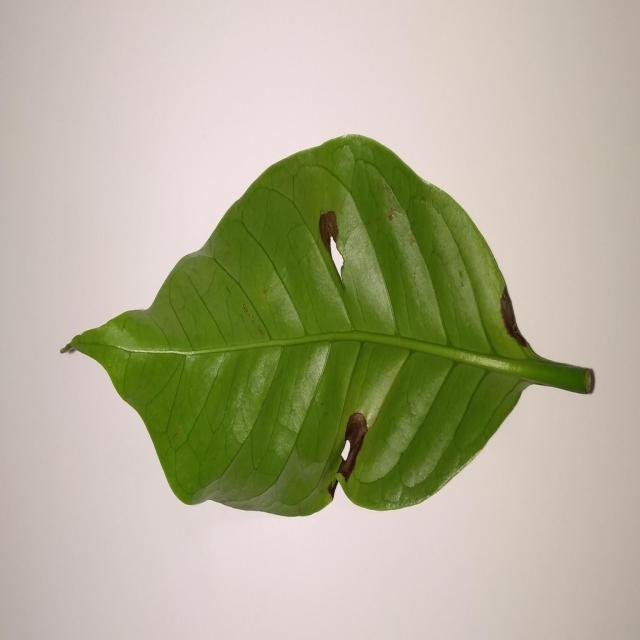Enfermedad-Antracnosis: (62, 134, 596, 520)
